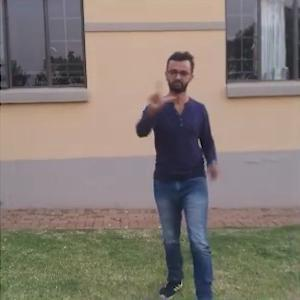land_hand: (141, 73, 180, 114)
